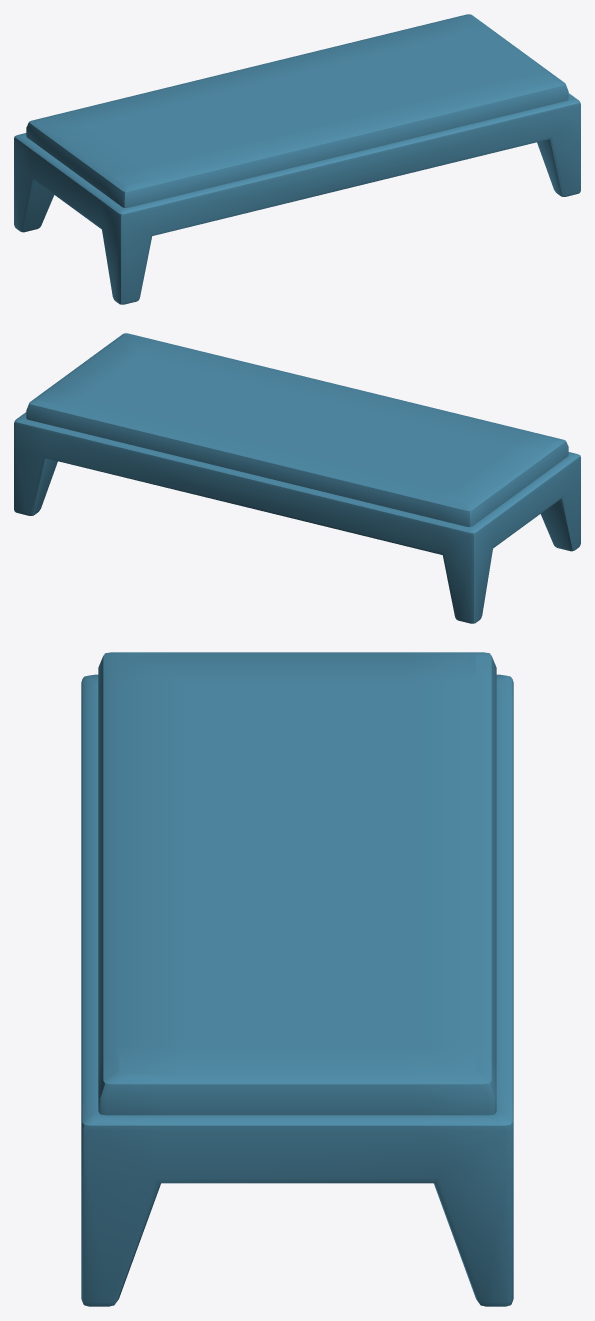
Rendered from BedFrame_TX.fbx.
3 renders of one model, top to bottom at view 1: azimuth 30°, elevation 25°; view 2: azimuth 150°, elevation 25°; view 3: azimuth 270°, elevation 25°, orthographic. The views are drawn at different scales.
Visible parts, largest first — view 1: Bed; view 2: Bed; view 3: Bed.
Part boxes in pixels (box(x1,y1,x2,y2)): Bed: box(14, 14, 580, 304); Bed: box(14, 333, 580, 623); Bed: box(81, 652, 513, 1306).
Bounding box in the file's own units: 38.5 × 8.77 × 15.62.
